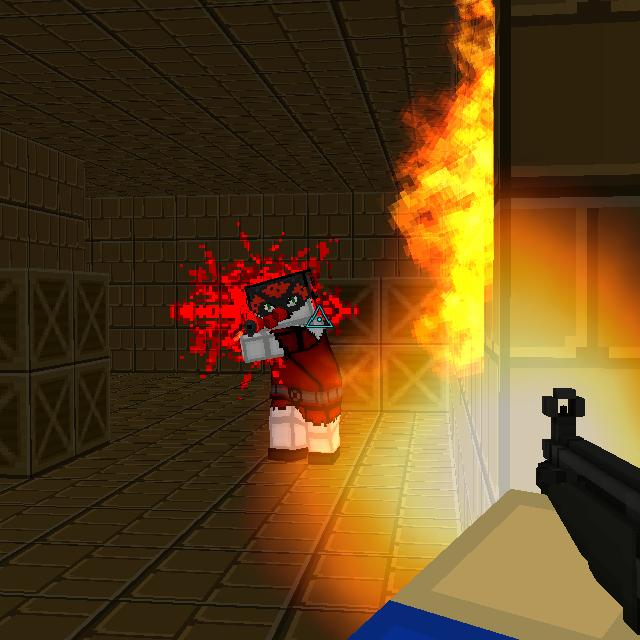enemy: (228, 263, 349, 465)
